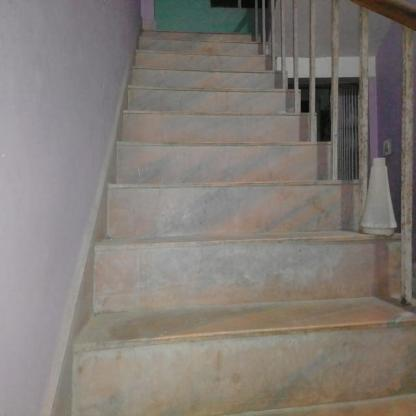stair: (60, 16, 415, 416)
